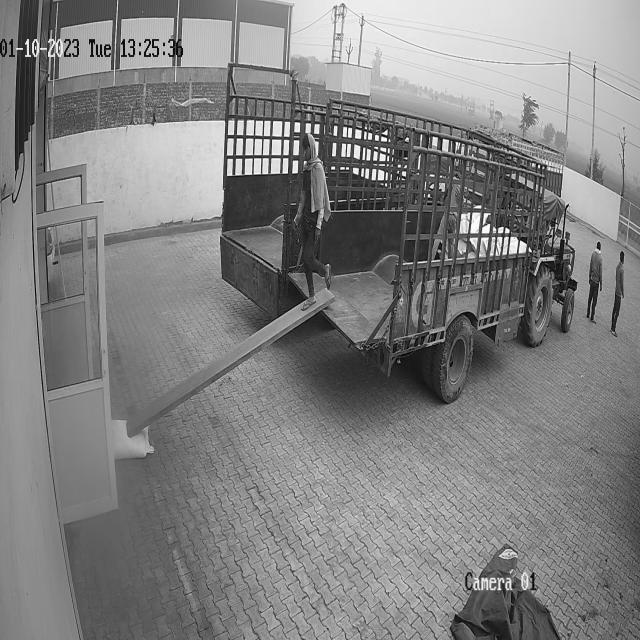sack: (112, 419, 154, 461)
